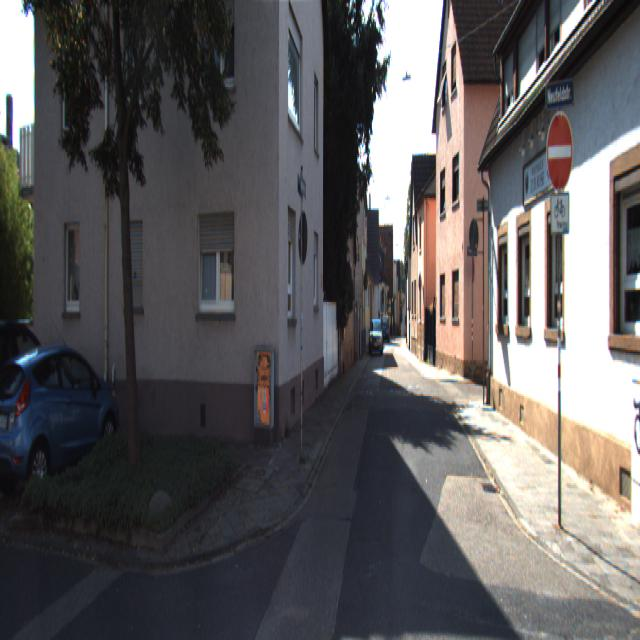Car: (0, 341, 124, 507)
